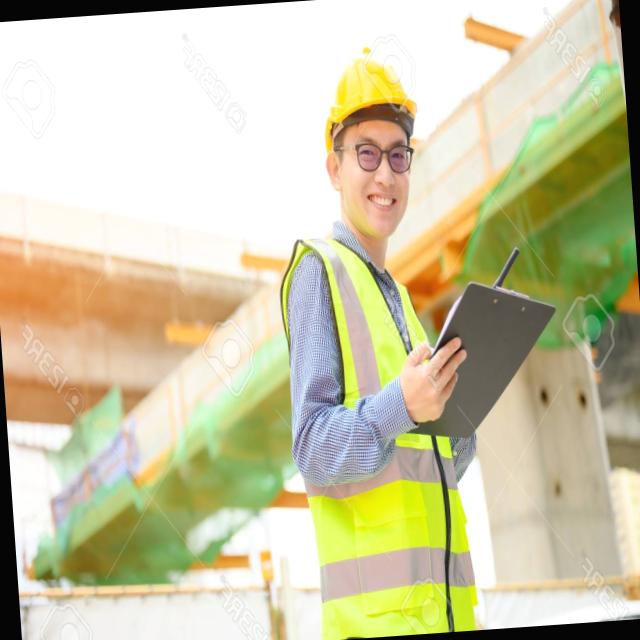helmet: (316, 40, 424, 150)
vest: (271, 221, 483, 640)
